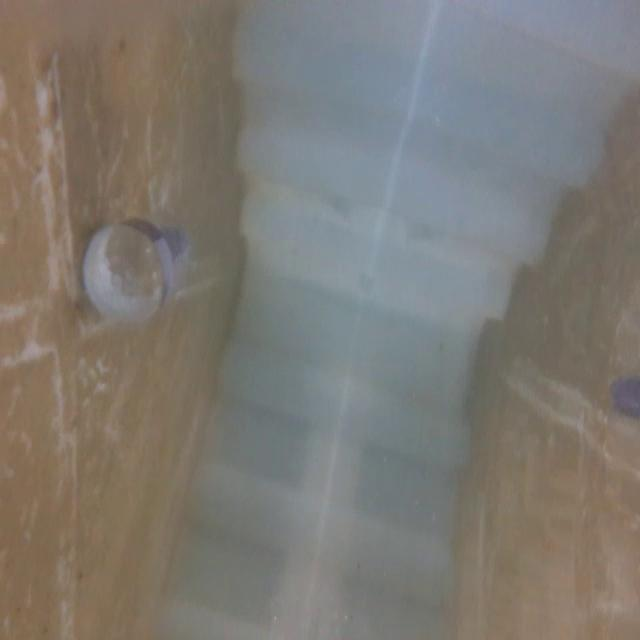plastic bottle: (77, 201, 222, 369)
